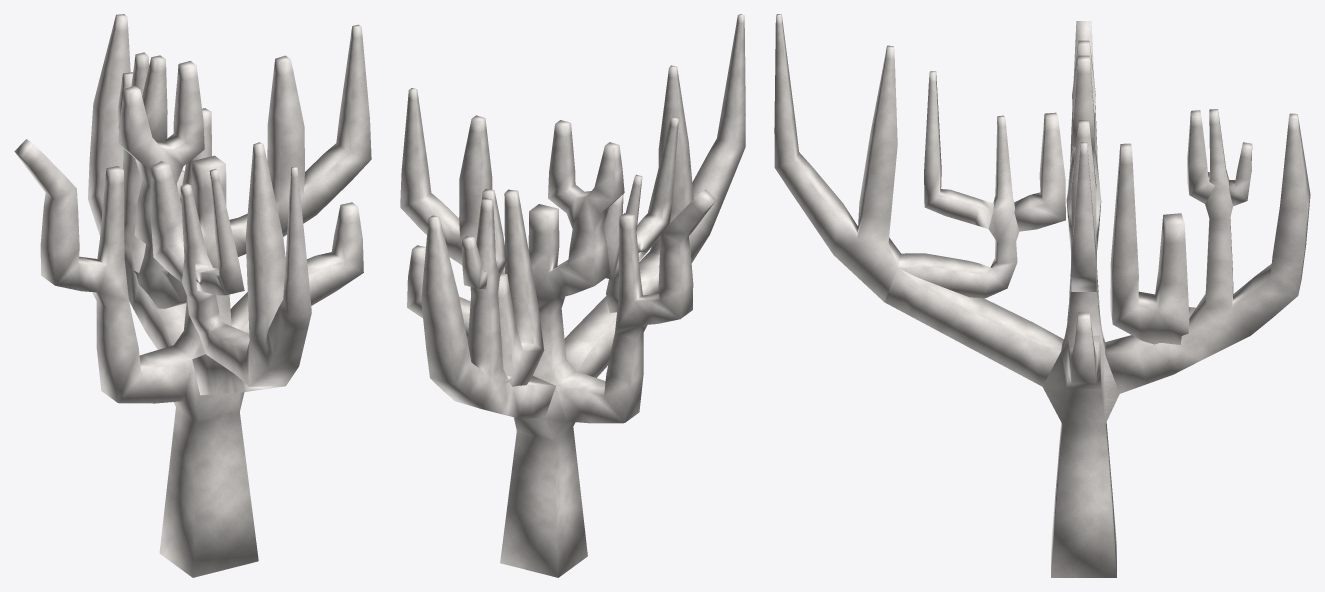
Rendered from coral_rama_santiago.fbx.
3 views of the same model, side by side, from view 1: azimuth 30°, elevation 25°; view 2: azimuth 150°, elevation 25°; view 3: azimuth 270°, elevation 25° (orthographic). The views are drawn at different scales.
Visible parts, largest first — view 1: coral_rama_santiago; view 2: coral_rama_santiago; view 3: coral_rama_santiago.
Part boxes in pixels (bbox=[...]): coral_rama_santiago: bbox=[14, 14, 371, 577]; coral_rama_santiago: bbox=[400, 14, 745, 577]; coral_rama_santiago: bbox=[774, 14, 1310, 577].
Size of the model in its own units: 1.12 by 1.6 by 1.51.
1 material, 1 textured.
